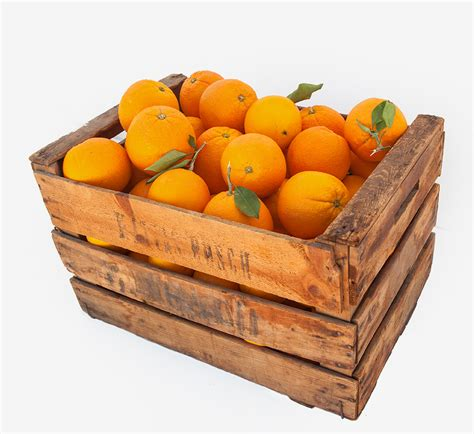orange: (123, 104, 201, 179), (276, 169, 350, 238), (342, 94, 409, 166), (220, 132, 288, 194), (144, 165, 209, 225), (282, 125, 353, 179), (198, 76, 261, 135), (118, 77, 179, 118)
